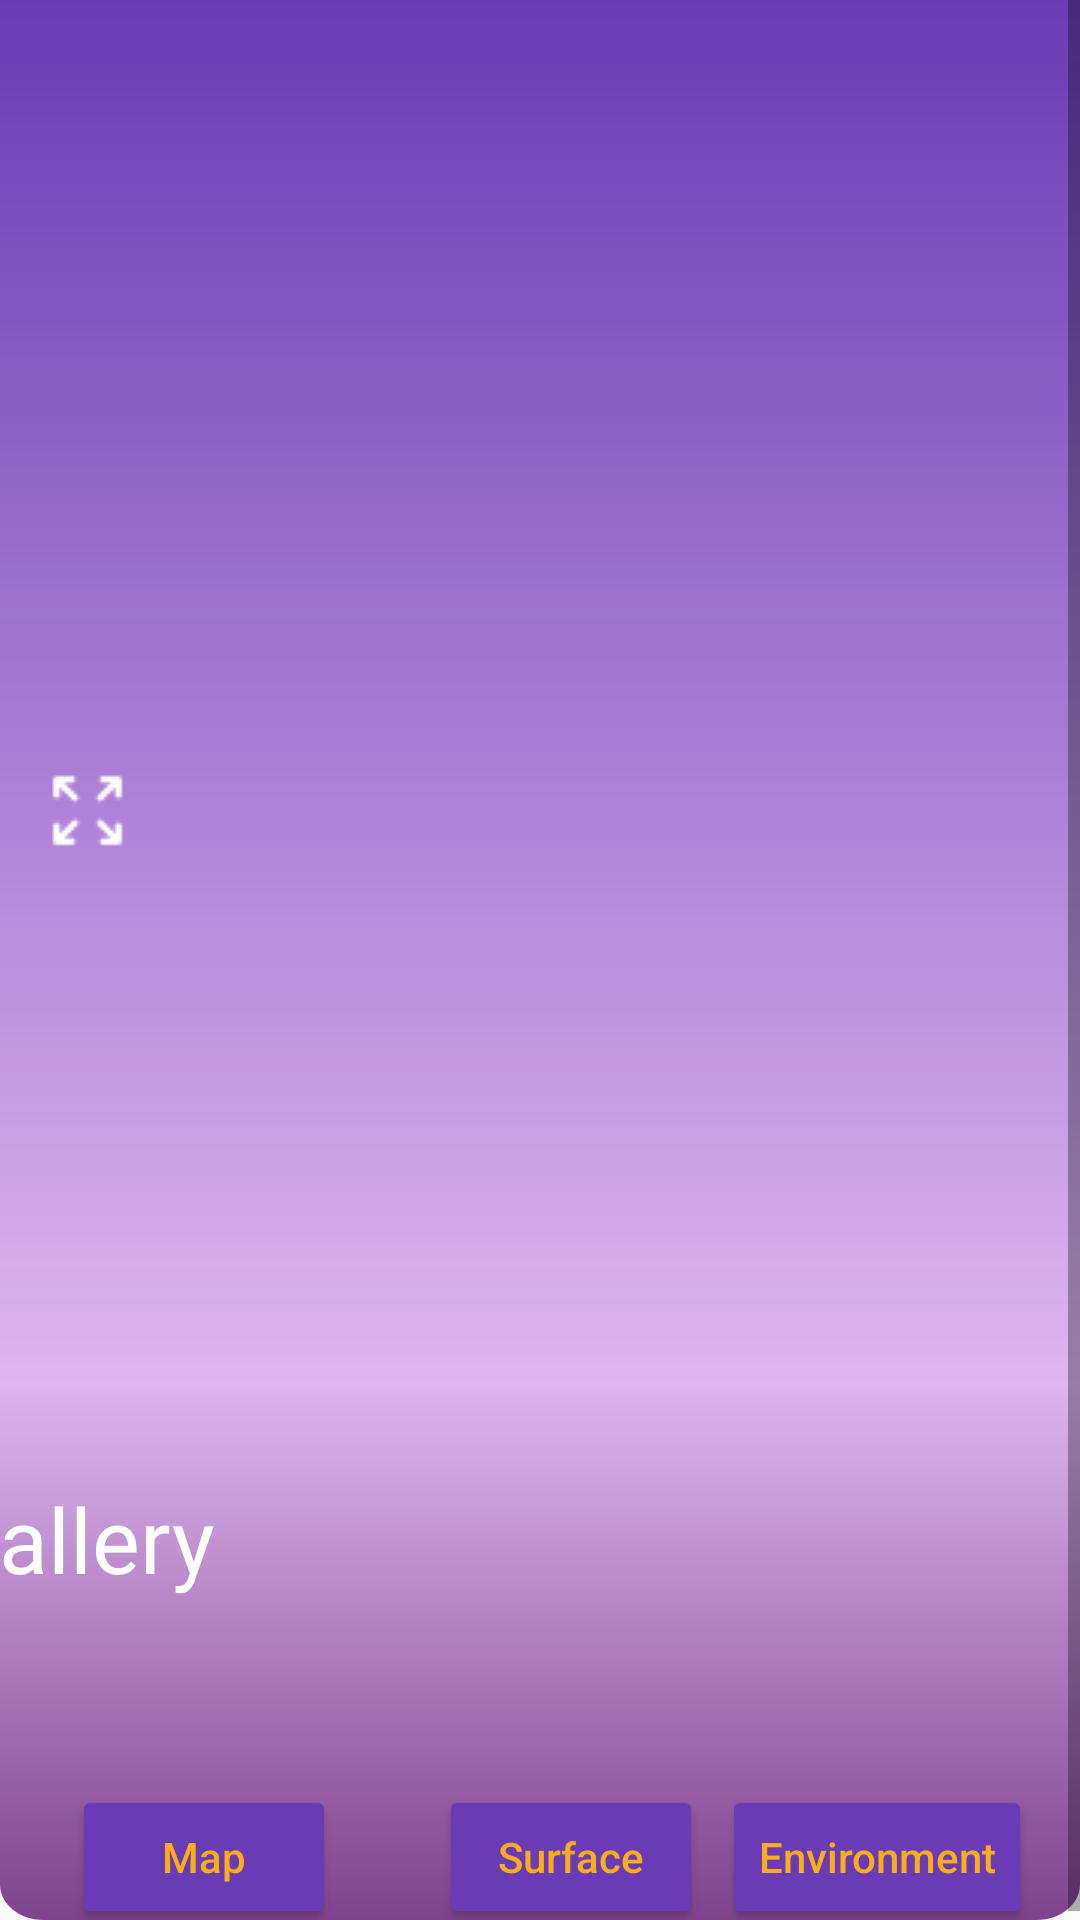

Icons on this 1080 x 1920 Android screen, each with its box as (x1, y1, x2, y2):
expand: (52, 775, 123, 846)
